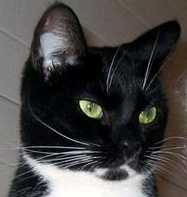Cat: (0, 0, 186, 189)
